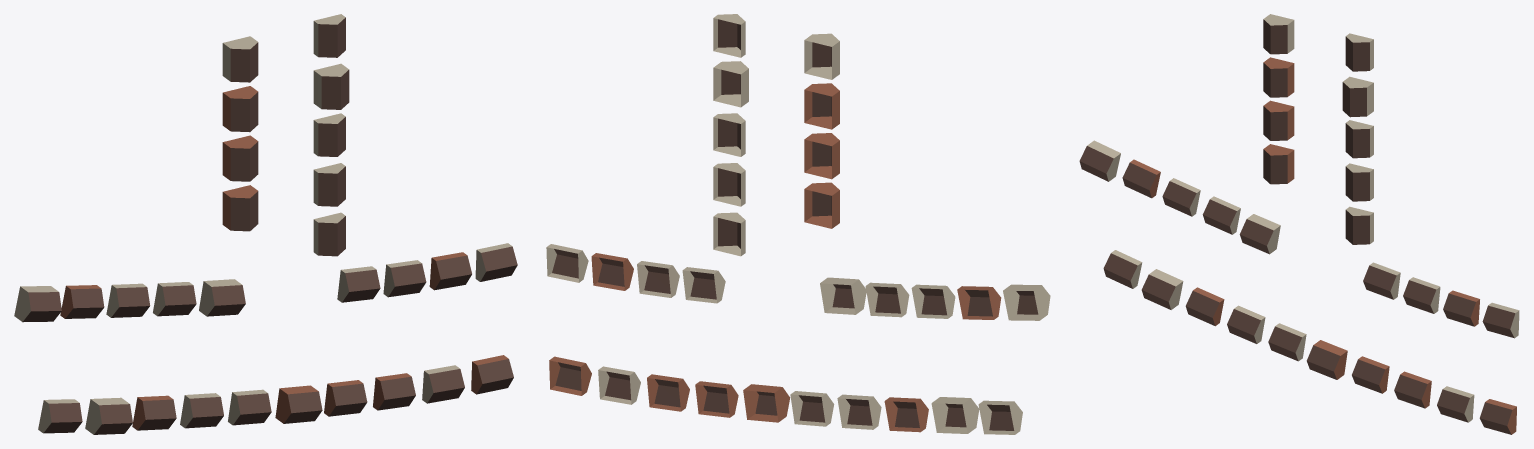
Rendered from island_bldg_20_02.obj.
3 renders of one model, left to right at view 1: azimuth 30°, elevation 25°; view 2: azimuth 150°, elevation 25°; view 3: azimuth 330°, elevation 25°, orthographic. The views are drawn at different scales.
Parts seen in each view (by area): view 1: island_bldg_20_02; view 2: island_bldg_20_02; view 3: island_bldg_20_02.
Part boxes in pixels (box(x1,y1,x2,y2)): island_bldg_20_02: box(14, 14, 517, 434); island_bldg_20_02: box(546, 14, 1050, 434); island_bldg_20_02: box(1079, 14, 1519, 434).
Size of the model in its own units: 250 by 198 by 12.65.
